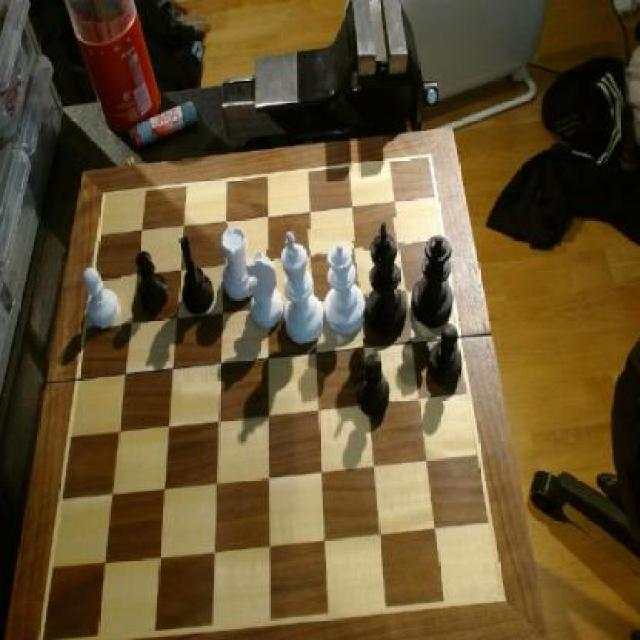black-bishop: (364, 217, 410, 339)
black-king: (173, 231, 214, 316)
black-knight: (428, 322, 465, 391), (131, 251, 170, 316), (357, 352, 392, 422)
black-pawn: (412, 234, 457, 330)
white-bishop: (278, 229, 327, 347)
white-king: (248, 249, 286, 333)
white-knight: (80, 266, 121, 332)
white-pawn: (322, 242, 369, 342)
white-queen: (218, 226, 260, 308)
